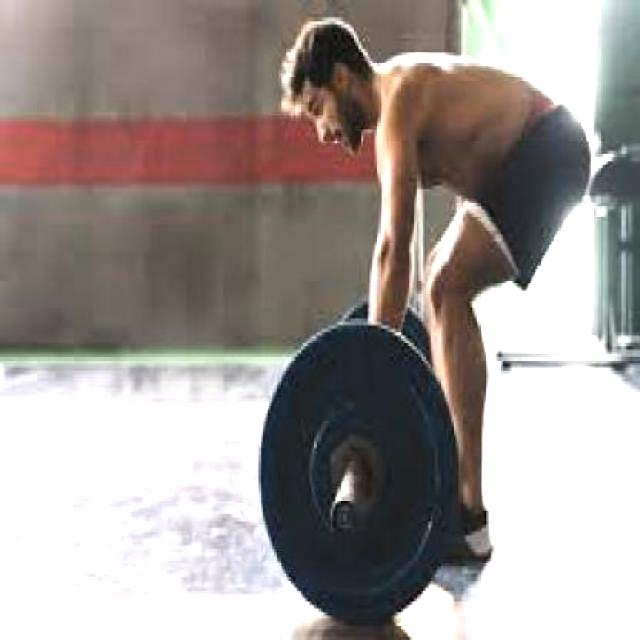barbell: (248, 308, 467, 627)
